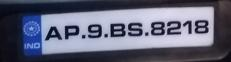1: (183, 19, 193, 37)
2: (166, 19, 182, 37)
8: (194, 18, 212, 35), (149, 20, 166, 36)
9: (87, 24, 104, 39)
A: (44, 24, 63, 43)
B: (109, 22, 126, 38)
P: (63, 24, 82, 41)
S: (127, 22, 144, 38)
